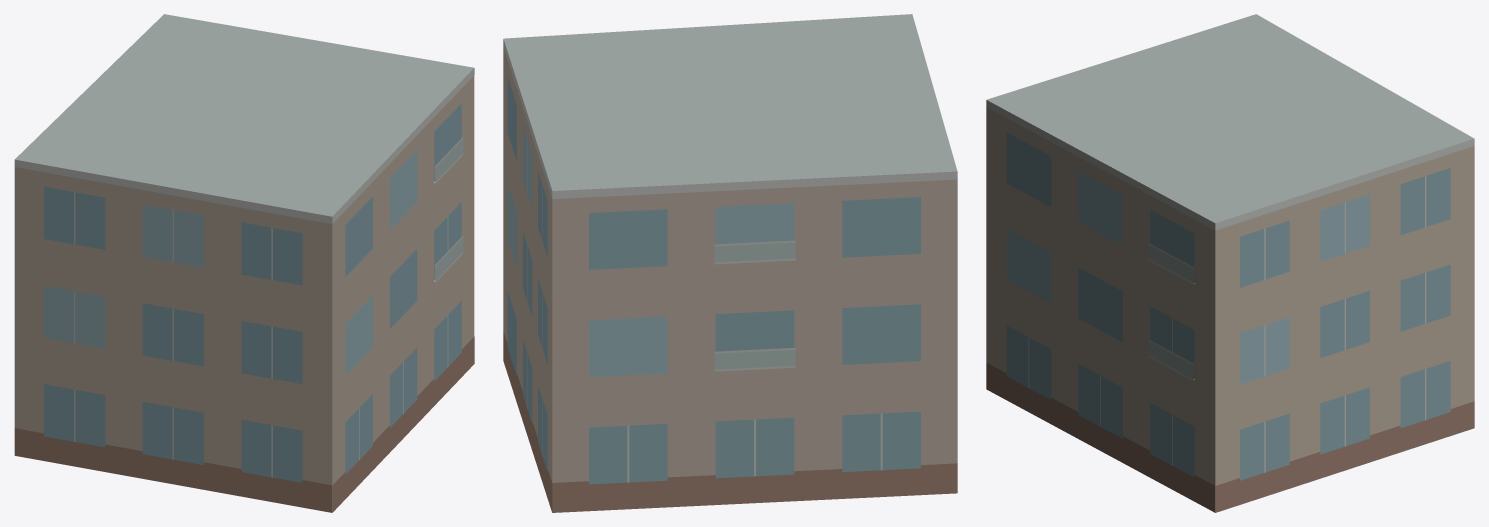
File: survey-upis-32886637.glb
The picture shows the model from 3 angles, left to right: view 1: azimuth 30°, elevation 25°; view 2: azimuth 150°, elevation 25°; view 3: azimuth 270°, elevation 25°; orthographic projection. The views are drawn at different scales.
Visible parts, largest first — view 1: survey-upis-32886637.tmp; view 2: survey-upis-32886637.tmp; view 3: survey-upis-32886637.tmp.
Part boxes in pixels (box(x1,y1,x2,y2)): survey-upis-32886637.tmp: box(14, 14, 474, 512); survey-upis-32886637.tmp: box(503, 14, 957, 512); survey-upis-32886637.tmp: box(986, 14, 1474, 512).
Bounding box in the file's own units: 15.21 × 9.8 × 14.99.
